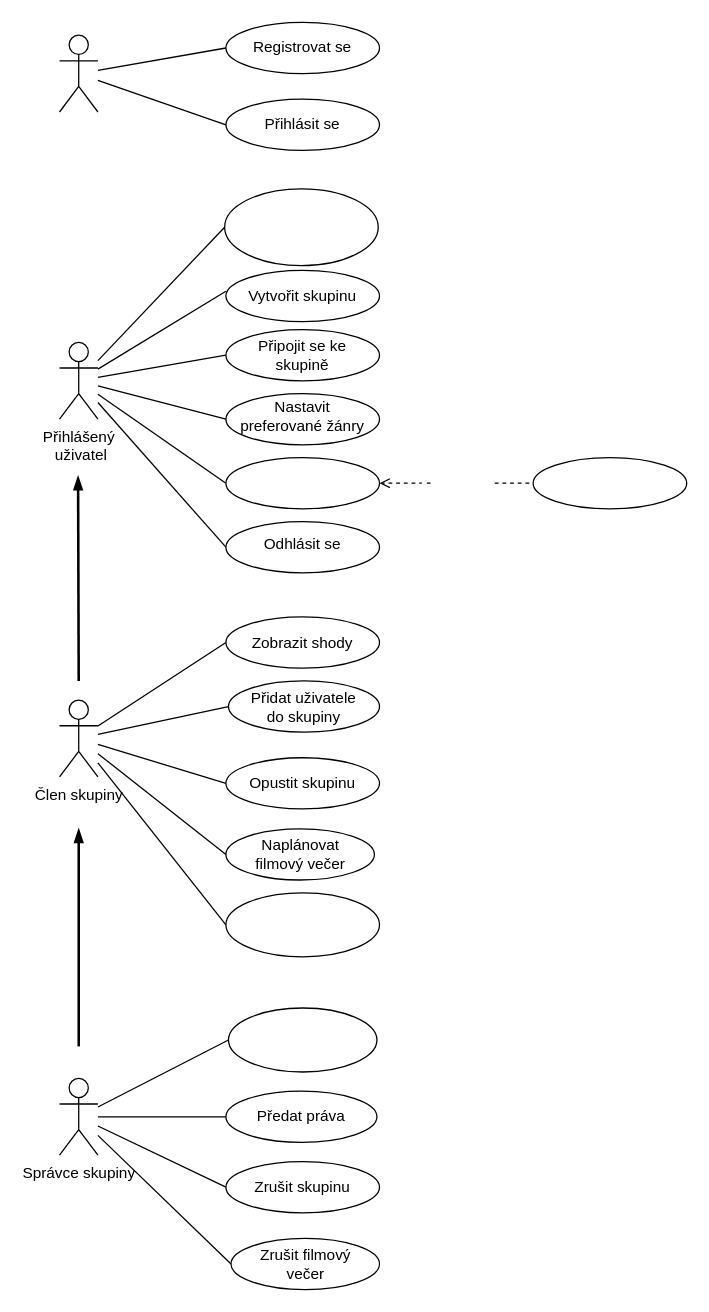
Image size: 709x1312. Some labels were removed from this diagram. Here are the shapes that lost their labels. From the top down, the centre of each, then its label:
(78,73): Nepřihlášený uživatel
(300,227): Upravit nastavení (dostupné služby, ...)
(302,482): Swipovat filmy
(609,482): Odstranit hodnocení
(302,924): Zvolit účast na filmový večer
(302,1039): Odstranit uživatele ze skupiny
